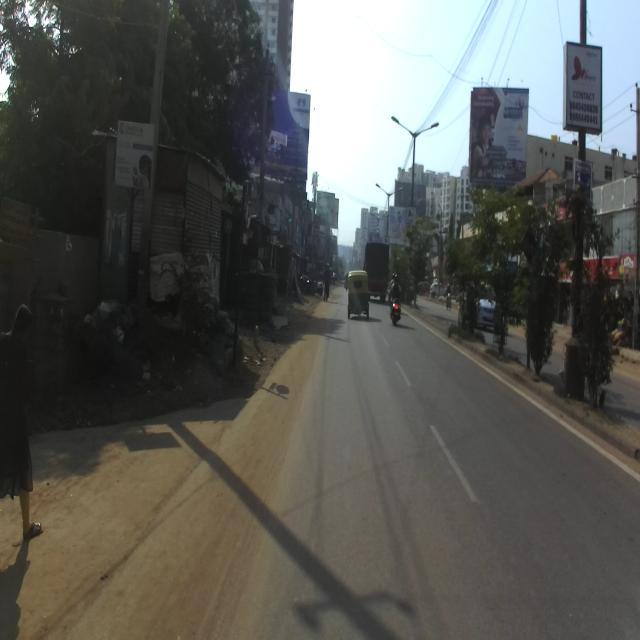person ahead at: (0, 301, 50, 551)
